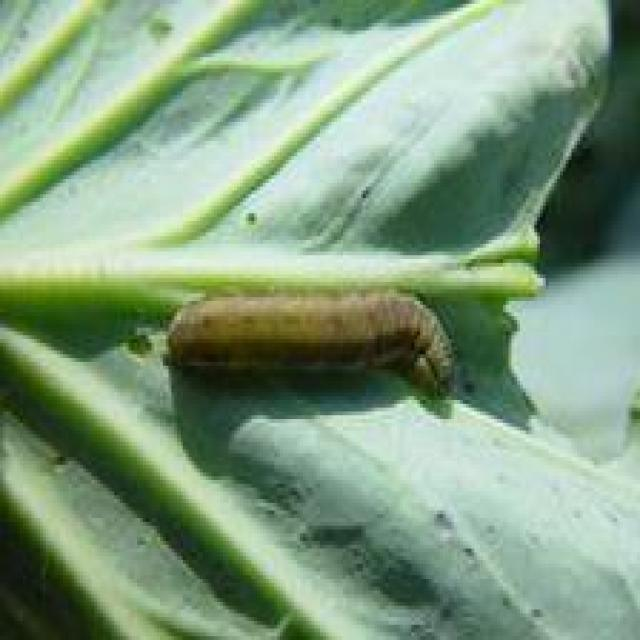BeetArmyWorm-Larva-: (159, 283, 461, 399)
